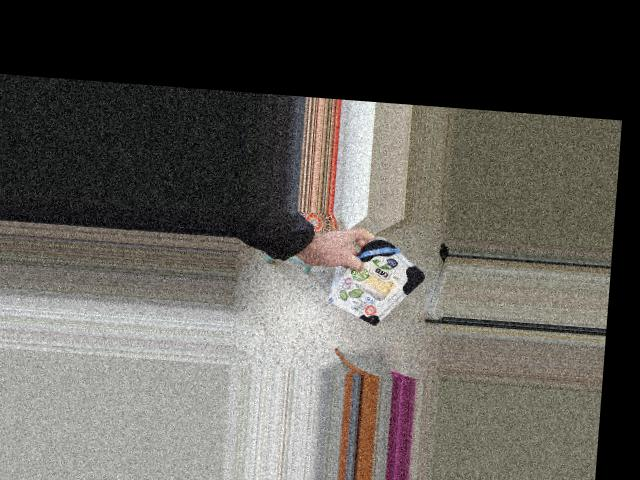cheese: (331, 231, 425, 337)
